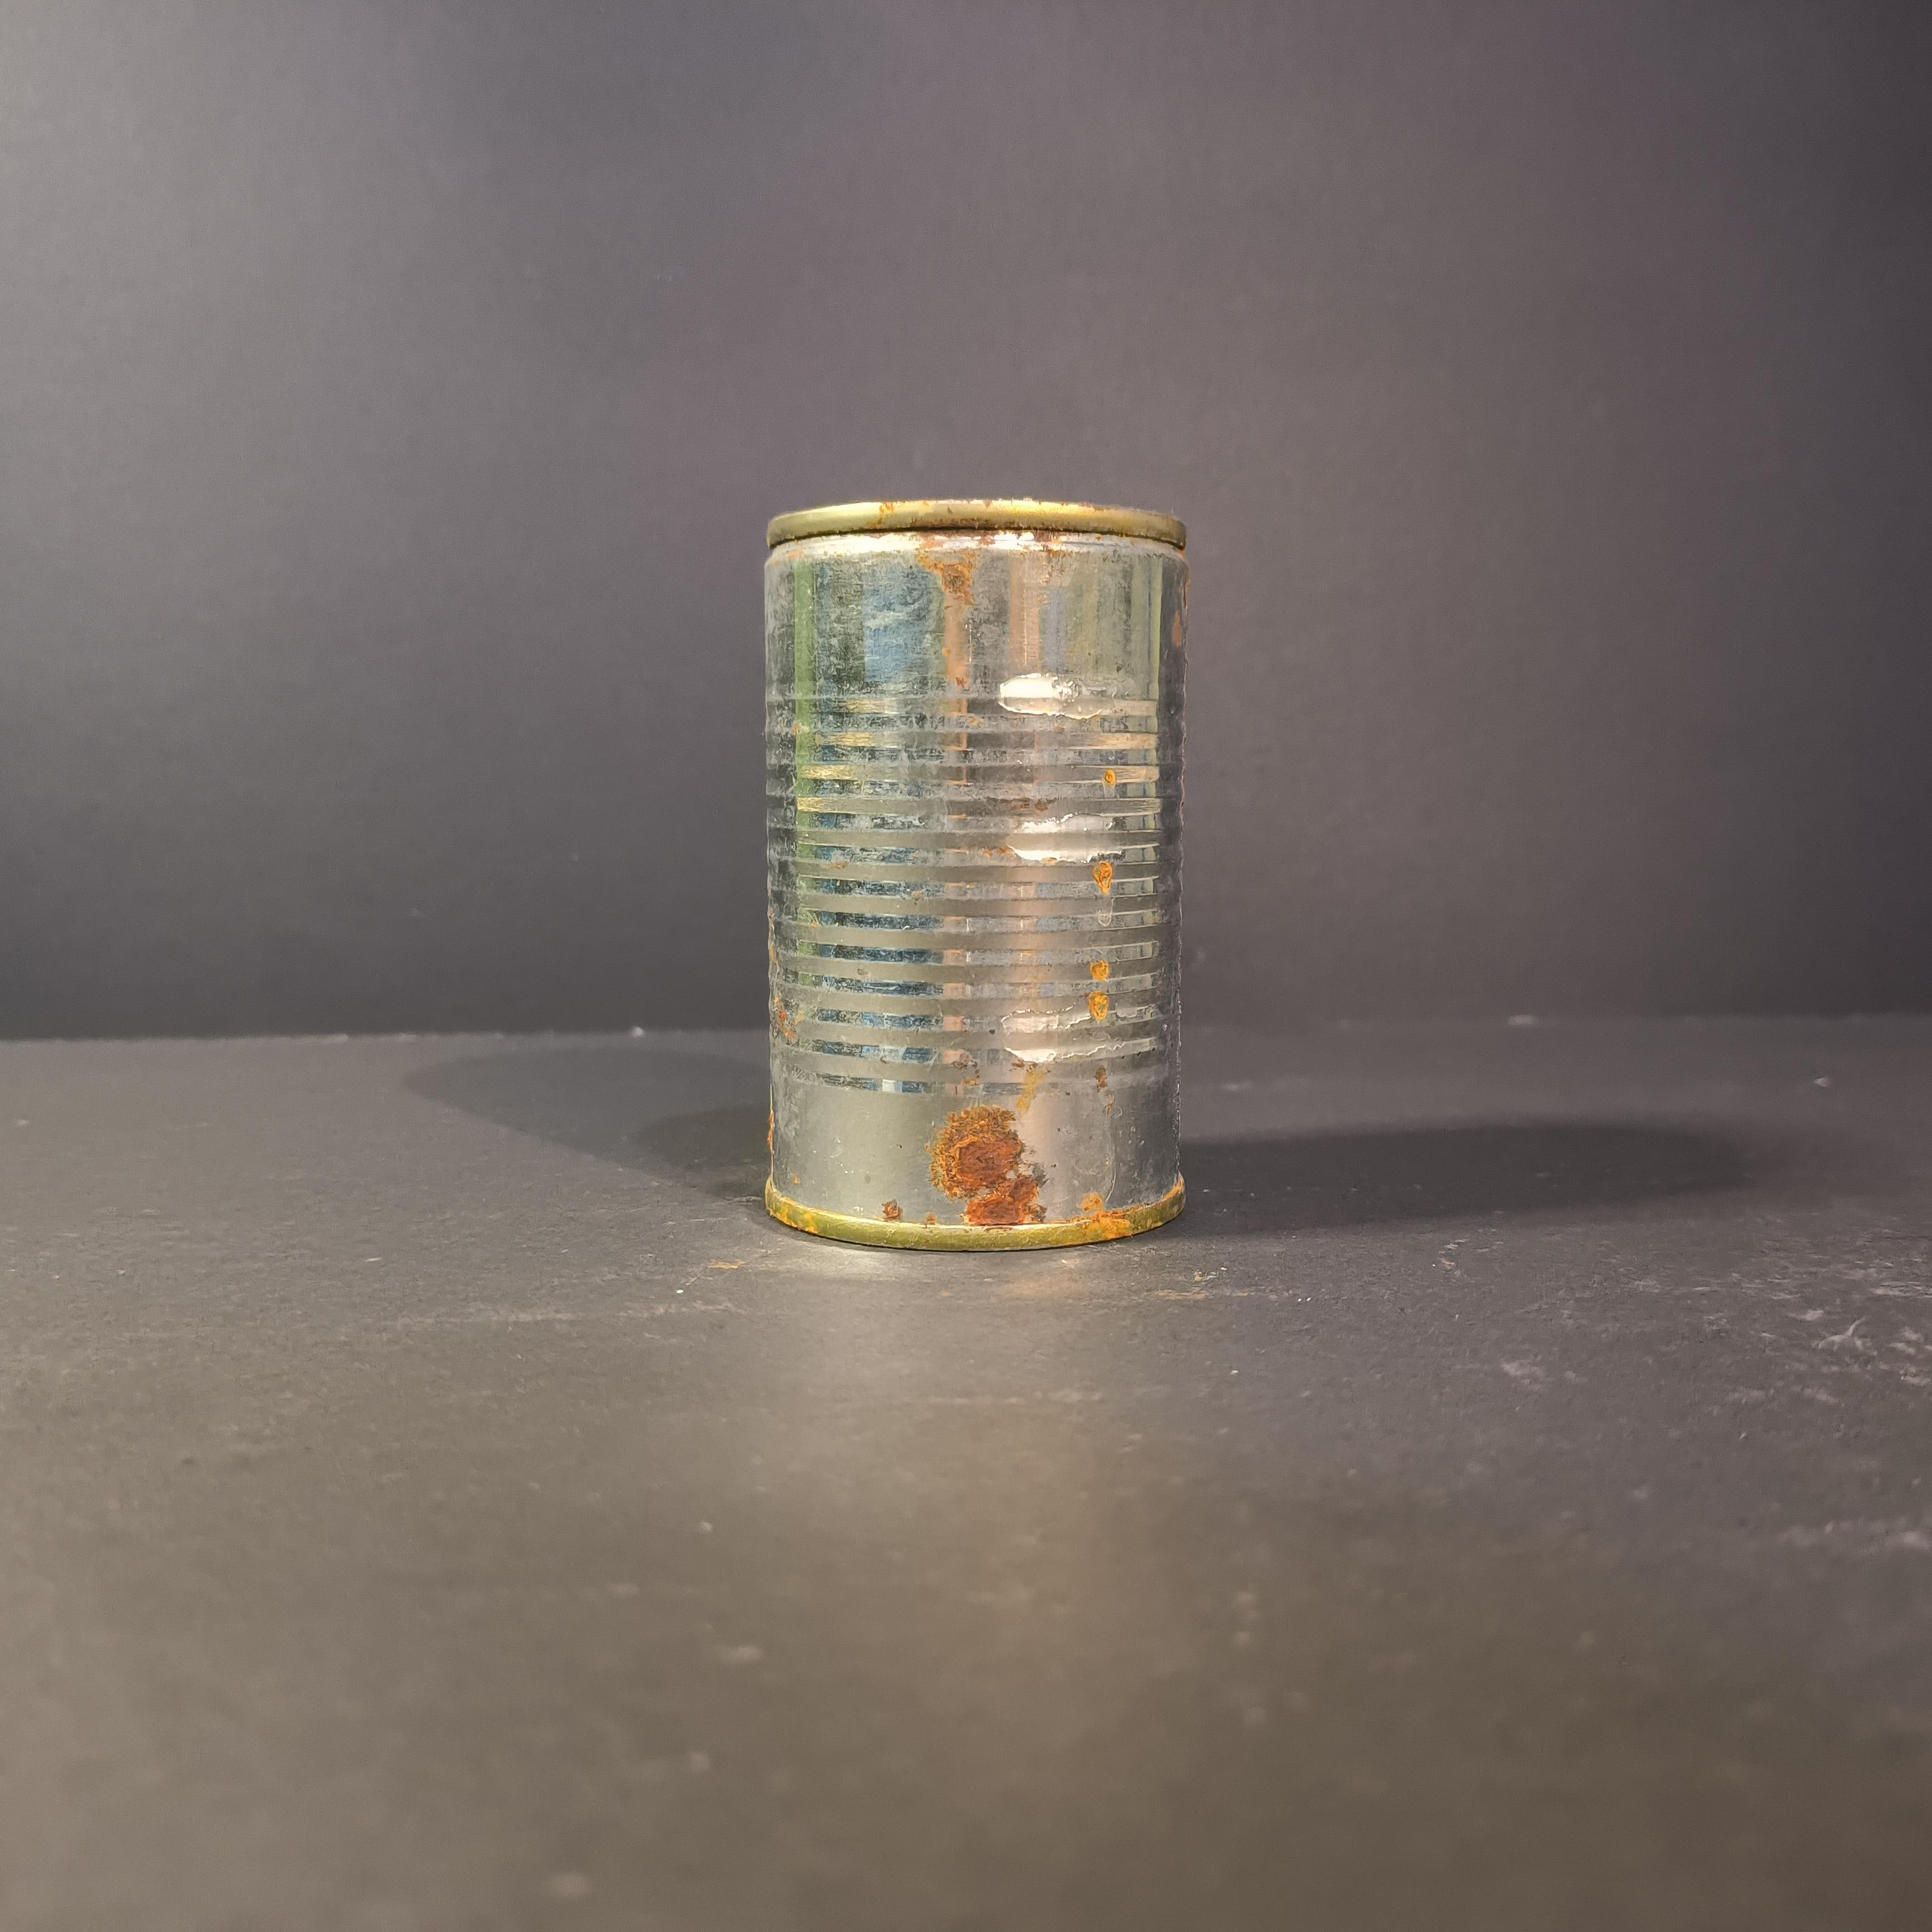Rusted: (740, 458, 1224, 1274)
